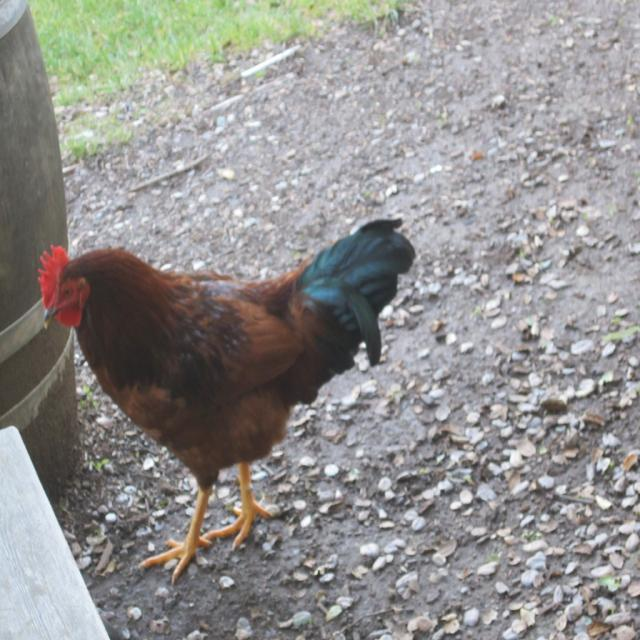Chicken: (37, 217, 420, 586)
